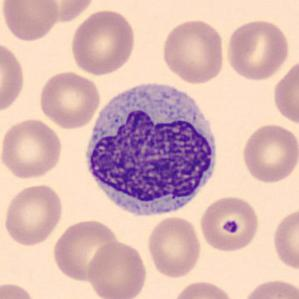Monocyte: (78, 75, 224, 223)
Platelets: (222, 217, 240, 237)
RBC: (50, 216, 124, 284), (68, 7, 137, 76), (159, 17, 227, 85), (223, 16, 292, 82), (0, 116, 65, 181), (1, 182, 64, 247), (37, 69, 102, 130), (198, 193, 262, 254), (85, 239, 149, 299), (145, 214, 203, 279), (239, 122, 298, 184), (0, 0, 61, 43), (0, 39, 27, 115), (271, 57, 298, 128), (270, 205, 298, 272), (27, 0, 96, 23), (169, 279, 237, 299), (239, 276, 298, 299), (0, 280, 39, 299), (272, 0, 298, 8)
